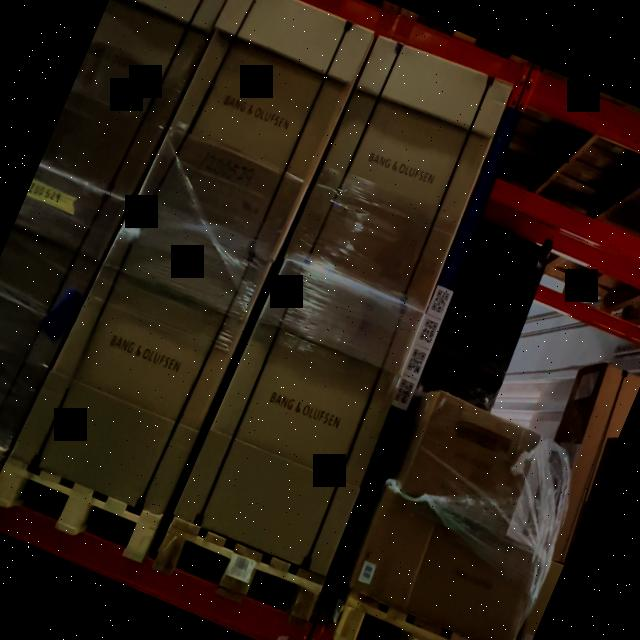box: (10, 203, 263, 516), (175, 259, 421, 576), (135, 0, 374, 262), (286, 36, 512, 311), (399, 390, 541, 538), (405, 515, 540, 640), (348, 485, 436, 611)
